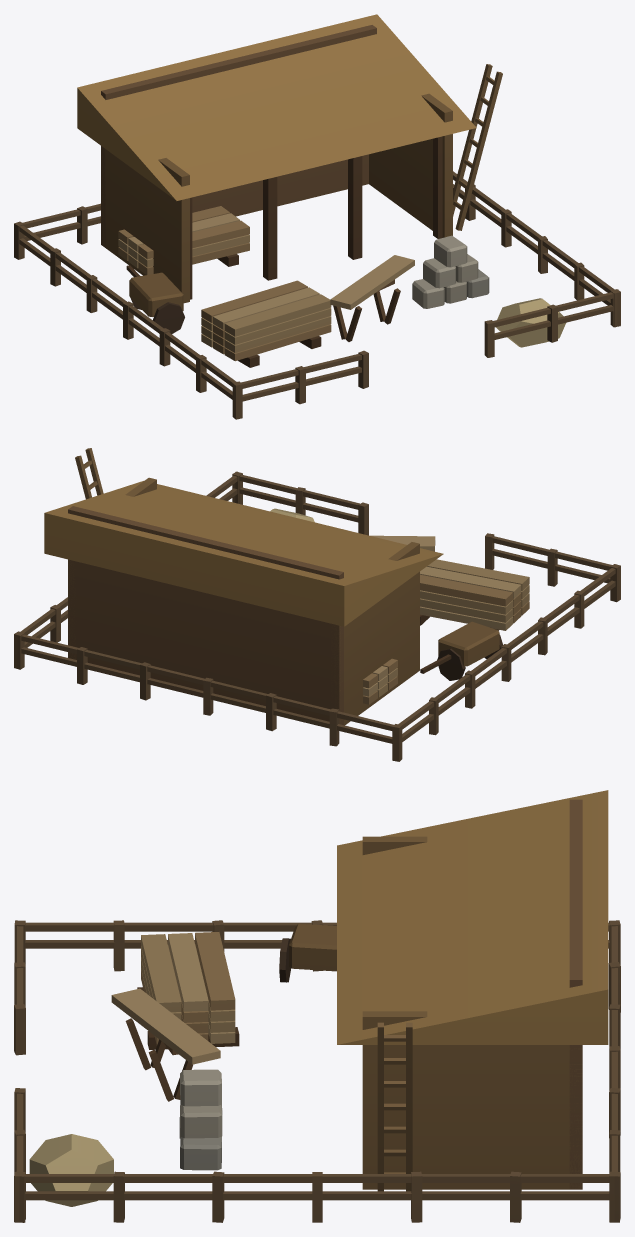
The model's file is builder.glb.
The picture shows the model from 3 angles, top to bottom: view 1: azimuth 30°, elevation 25°; view 2: azimuth 150°, elevation 25°; view 3: azimuth 270°, elevation 25°; orthographic projection. The views are drawn at different scales.
Visible parts, largest first — view 1: builder_model; view 2: builder_model; view 3: builder_model.
Part boxes in pixels (left/top/right/bottom): builder_model: left=14, top=14, right=620, bottom=419; builder_model: left=14, top=448, right=620, bottom=761; builder_model: left=14, top=790, right=620, bottom=1222.
Bounding box in the file's own units: 0.9259 × 0.3867 × 0.8919.
